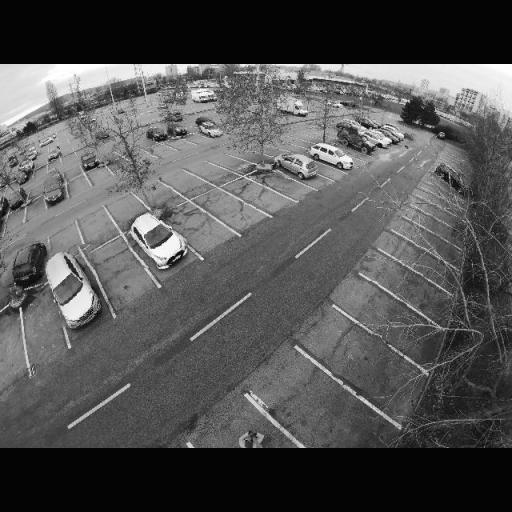busy: (38, 245, 101, 328), (127, 209, 188, 268), (6, 237, 50, 296), (434, 163, 473, 195), (276, 153, 320, 180), (310, 144, 354, 170), (338, 128, 377, 154), (42, 176, 70, 205), (198, 118, 223, 138), (146, 125, 169, 144), (364, 132, 390, 148), (82, 152, 100, 170), (16, 166, 34, 184), (168, 122, 188, 137), (47, 148, 62, 162)
free: (274, 390, 346, 434), (326, 332, 389, 377), (356, 282, 399, 332), (27, 310, 59, 348), (98, 252, 137, 282), (386, 268, 424, 298), (0, 326, 19, 371), (142, 181, 174, 206), (403, 254, 434, 277), (182, 214, 212, 236), (117, 198, 141, 223), (340, 140, 364, 164), (212, 198, 239, 218), (310, 157, 334, 179), (86, 218, 111, 238), (242, 186, 268, 204), (415, 234, 441, 252), (87, 165, 111, 184), (58, 234, 81, 252), (6, 210, 28, 228), (268, 175, 290, 190), (176, 177, 198, 191), (31, 198, 49, 214), (248, 147, 264, 165), (225, 156, 242, 172), (148, 144, 167, 158), (264, 144, 280, 160), (70, 178, 88, 192), (201, 169, 221, 180), (425, 215, 439, 230), (172, 139, 188, 149), (283, 144, 299, 154), (135, 152, 150, 162), (428, 193, 440, 204), (424, 204, 435, 215), (188, 134, 202, 142)
